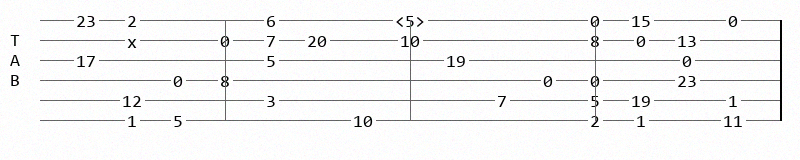0: (173, 73, 187, 88), (220, 33, 234, 48), (543, 73, 557, 88), (590, 73, 604, 88), (590, 13, 604, 28), (636, 33, 650, 48), (682, 53, 696, 68), (728, 13, 742, 28)
1: (127, 113, 141, 128), (636, 113, 650, 128), (728, 93, 742, 108)
10: (353, 113, 377, 128), (400, 33, 424, 48)
11: (723, 113, 747, 128)
12: (122, 93, 146, 108)
13: (677, 33, 701, 48)
15: (631, 13, 655, 28)
17: (76, 53, 100, 68)
19: (446, 53, 470, 68), (631, 93, 655, 108)
2: (127, 13, 141, 28), (590, 113, 604, 128)
20: (307, 33, 331, 48)
23: (76, 13, 100, 28), (677, 73, 701, 88)
3: (266, 93, 280, 108)
5: (173, 113, 187, 128), (266, 53, 280, 68), (590, 93, 604, 108)
6: (266, 13, 280, 28)
7: (266, 33, 280, 48), (497, 93, 511, 108)
8: (220, 73, 234, 88), (590, 33, 604, 48)
harmonic: (395, 13, 429, 28)
x: (127, 34, 141, 47)
